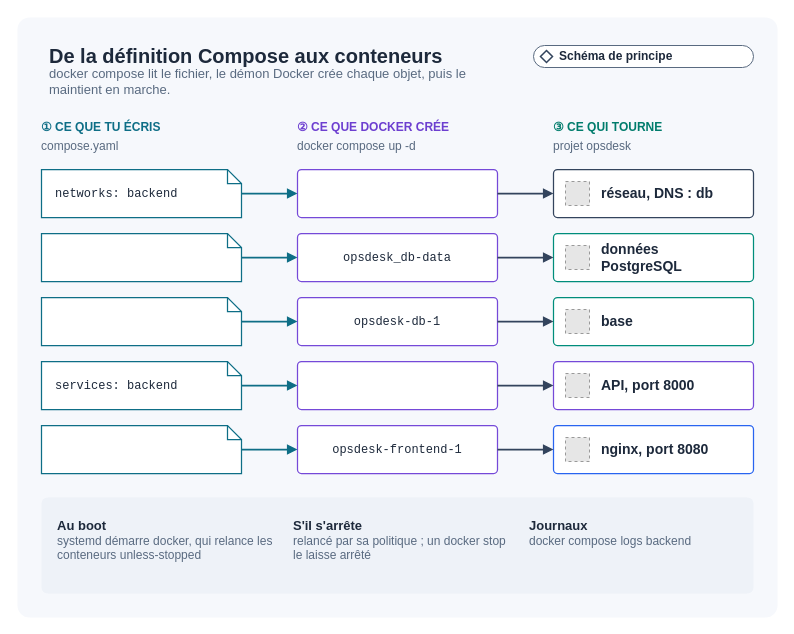
Image size: 794x634. Some labels were removed from this diagram. Grey dashed boxes stand in for pictures. The centre of each missing label's shape, as x and y in pixels:
opsdesk-backend-1: the point at 397,385
opsdesk_backend: the point at 397,193
services: db: the point at 141,321
services: frontend: the point at 141,449
volumes: db-data: the point at 141,257
